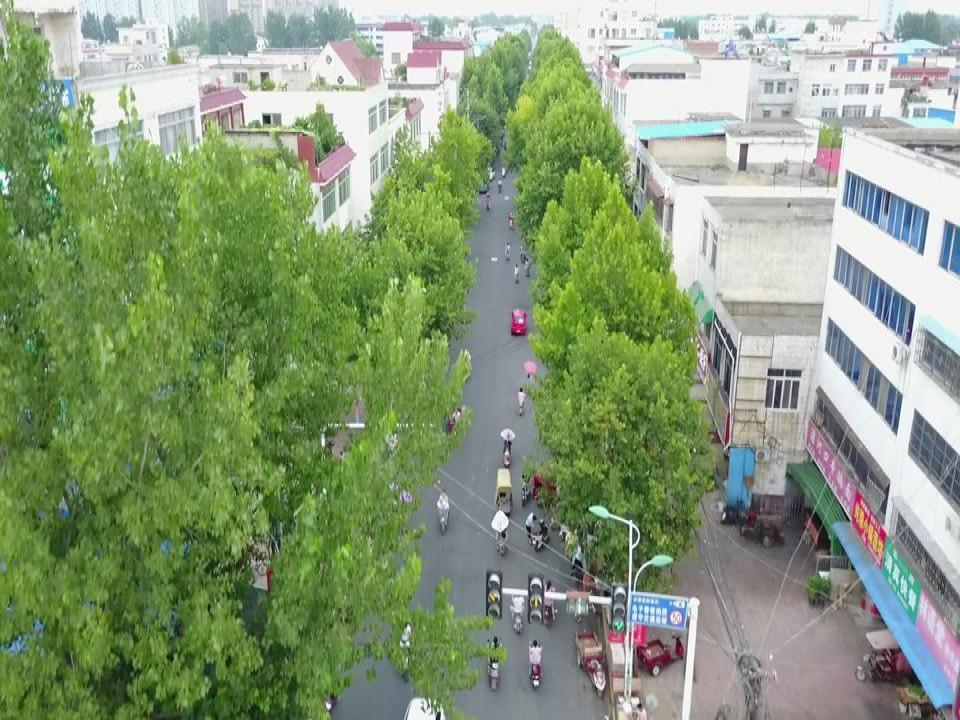car: (510, 309, 527, 336), (482, 164, 496, 181)
van: (400, 694, 449, 720)
